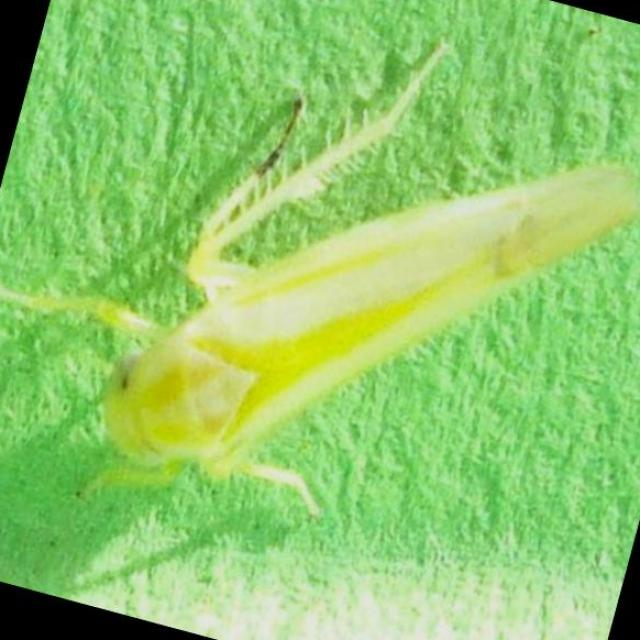green leaf hopper: (96, 107, 638, 512)
